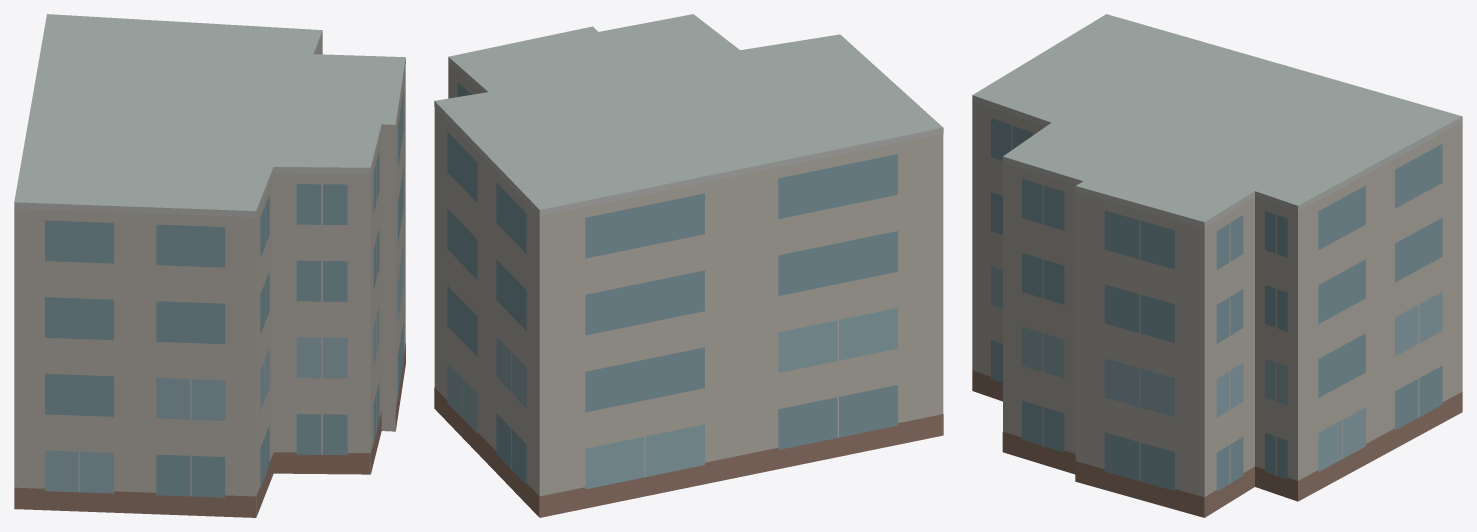
File: survey-upis-32941685.glb
3 renders of one model, left to right at view 1: azimuth 30°, elevation 25°; view 2: azimuth 150°, elevation 25°; view 3: azimuth 270°, elevation 25°, orthographic. The views are drawn at different scales.
Visible parts, largest first — view 1: survey-upis-32941685.tmp; view 2: survey-upis-32941685.tmp; view 3: survey-upis-32941685.tmp.
Boxes of the visible parts, x1,y1,x2,y2 form: survey-upis-32941685.tmp: (14,14,405,517); survey-upis-32941685.tmp: (434,14,943,517); survey-upis-32941685.tmp: (972,14,1462,517).
Bounding box in the file's own units: 18.58 × 12.3 × 18.49.
